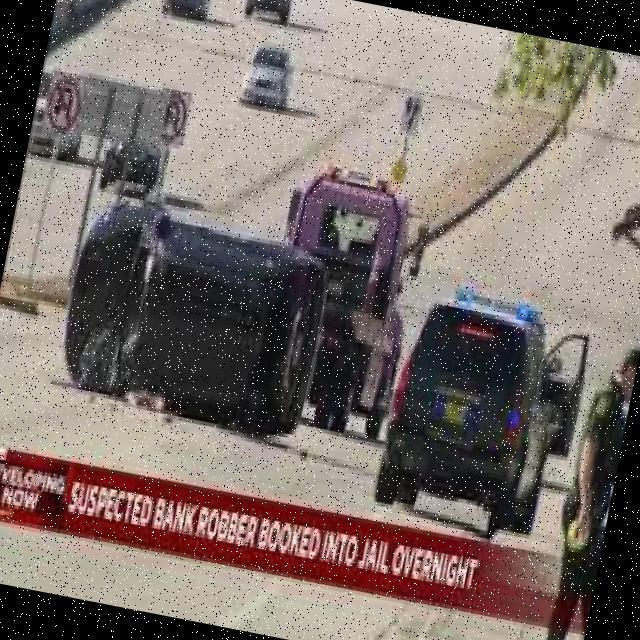accident: (41, 172, 342, 453)
